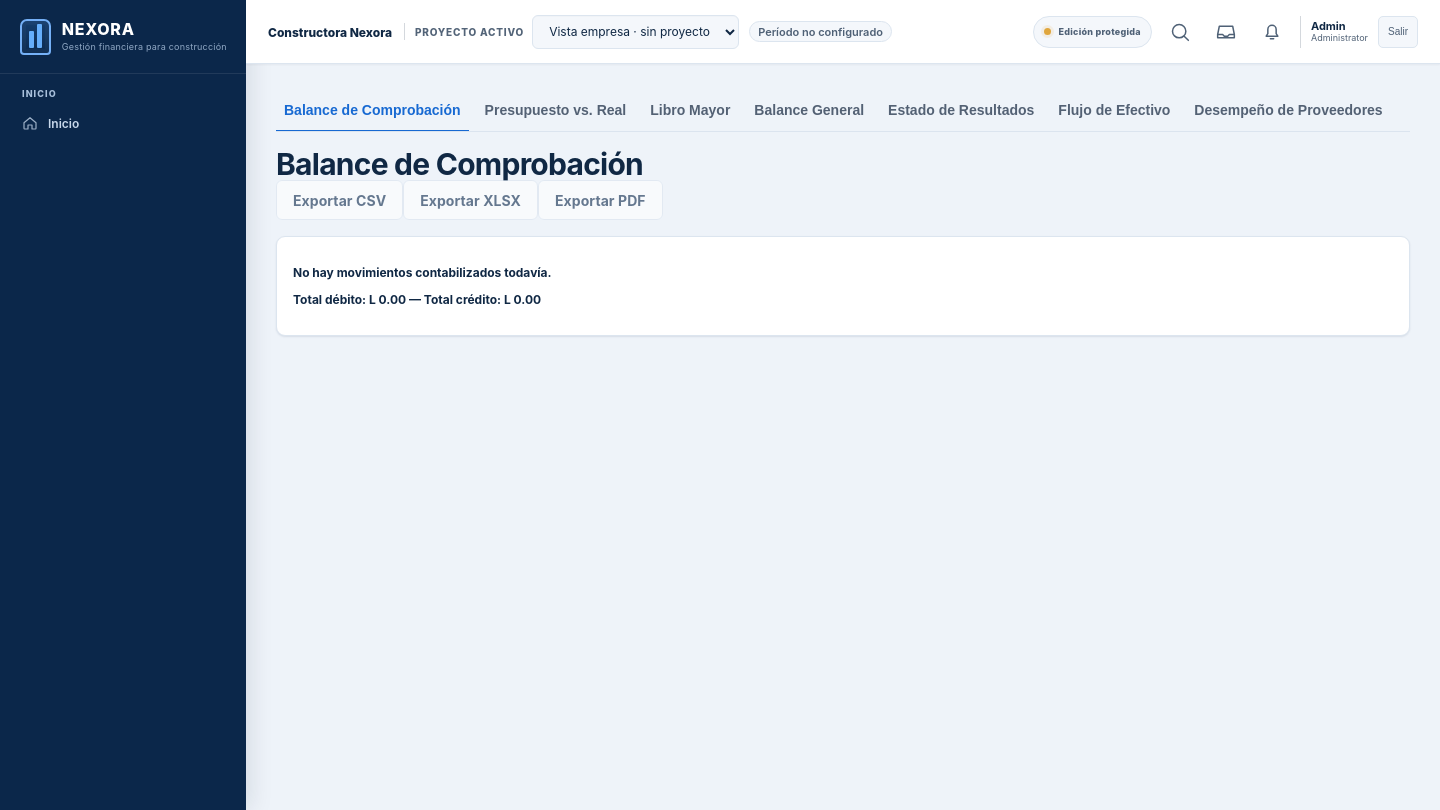
Scenario: CashFlowPage › renders classified activities, the unclassified bucket and the net cash change from the real API response
What coordinates should you click on to do the following:
click the tab "Flujo de Efectivo"
I would click on:
 (1114, 111)
Its box is [1050,90,1178,132].
(page scrolled)
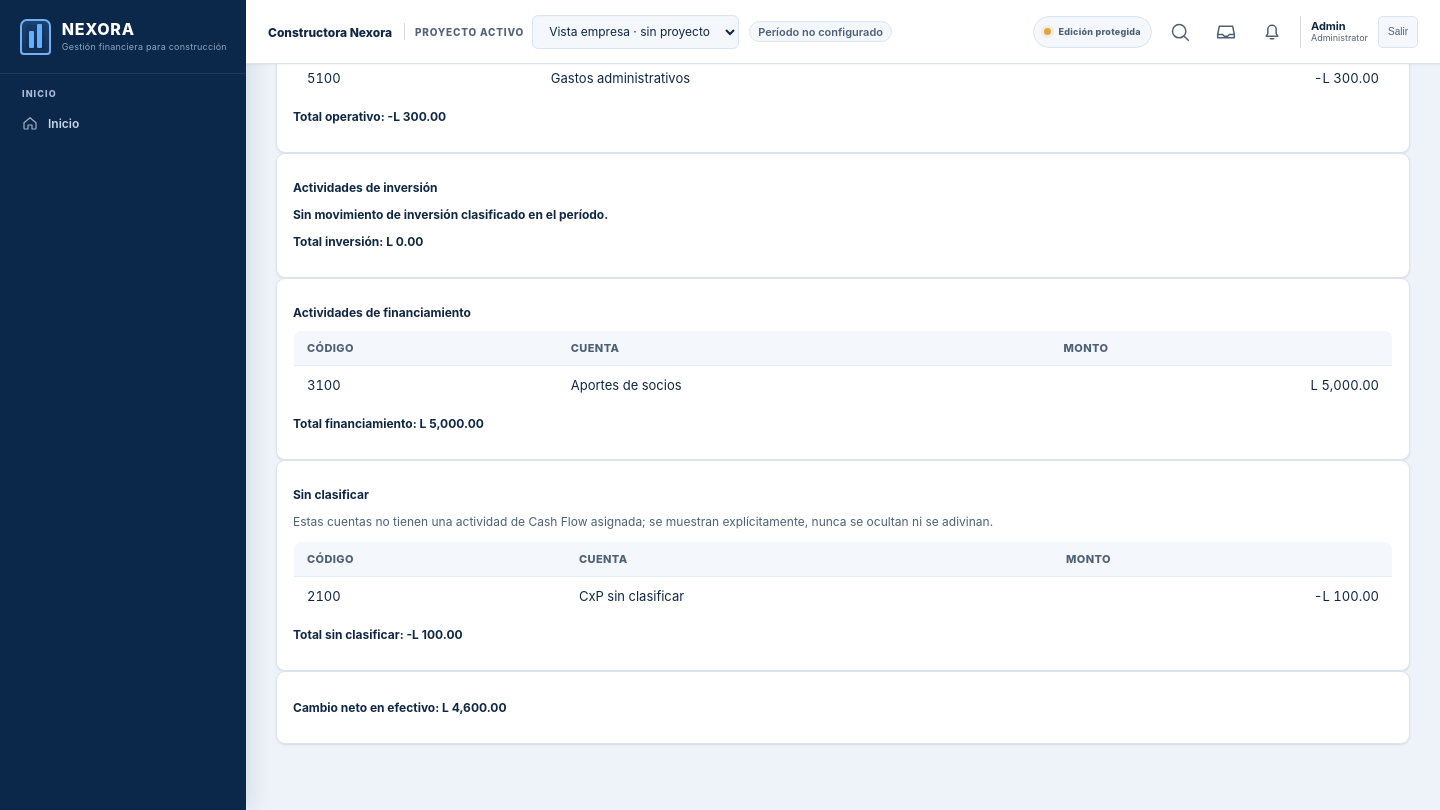
Check: the text "Aportes de socios" is shown, box [558,366,1051,404]
Check: the text "Gastos administrativos" is shown, box [538,59,1088,97]
Check: the text "CxP sin clasificar" is shown, box [566,577,1053,615]
